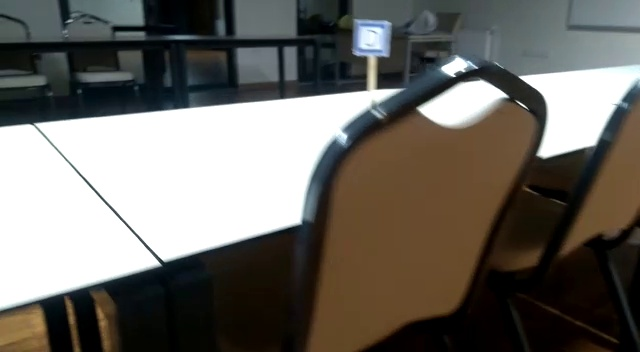durak: (351, 23, 389, 56)
